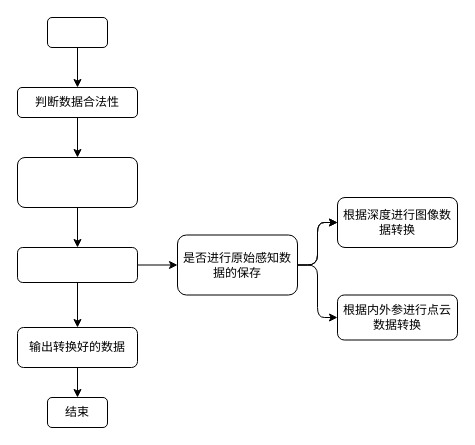
Some shapes in this 475 by 445 pixel diagram are drawn without their labels. Here are the shapes that lost their labels. From the top down, the box of each, then its label:
(46, 16, 108, 48): 开始
(16, 156, 138, 208): 初始化融合预处理输出数据
(16, 246, 138, 282): 遍历每一帧感知数据并进行数据转换
